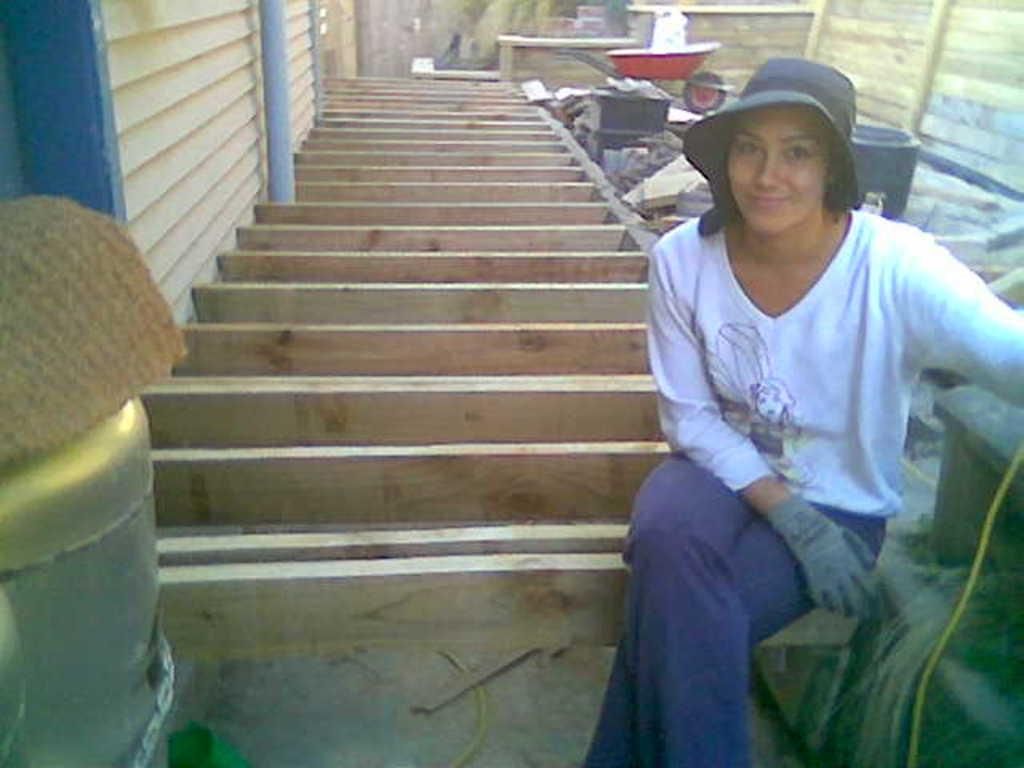Hat: (680, 54, 864, 235)
